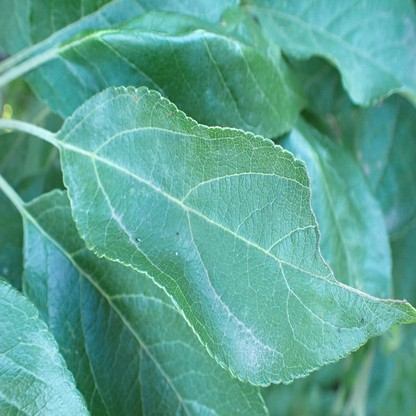powder: (210, 295, 276, 375), (150, 141, 173, 186), (63, 163, 87, 206), (110, 204, 132, 237), (93, 92, 108, 128)
